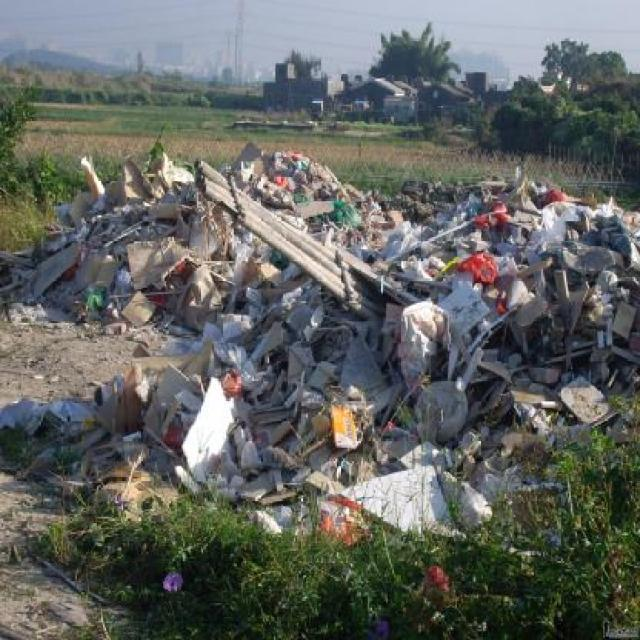garbage: (263, 149, 336, 218), (308, 479, 362, 555), (323, 391, 374, 467)
